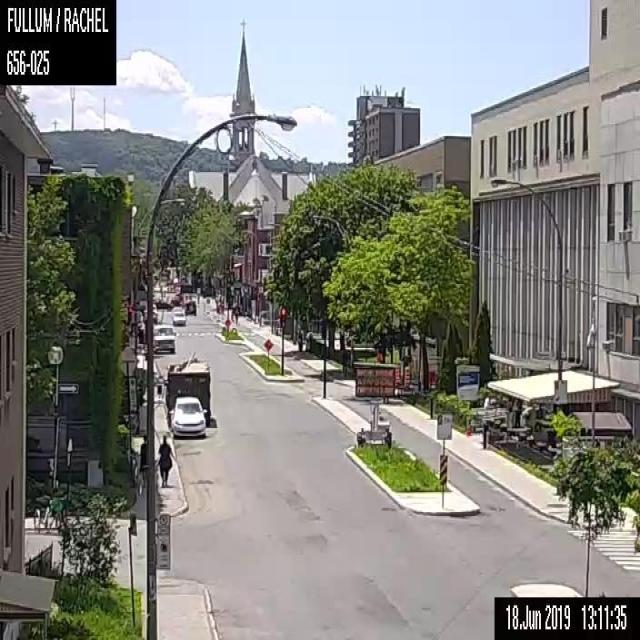construction: (355, 365, 395, 447), (263, 337, 273, 350), (404, 366, 409, 384), (395, 367, 399, 384), (354, 436, 356, 440)
pedestrian: (156, 433, 173, 487), (139, 433, 148, 487), (341, 344, 348, 375), (348, 345, 355, 375), (296, 329, 302, 352)
vehicle: (168, 396, 206, 439), (153, 324, 175, 353), (142, 303, 157, 322), (154, 300, 173, 310), (172, 310, 185, 324), (184, 300, 196, 315)
